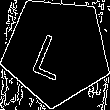L_NE: (33, 21, 80, 80)
